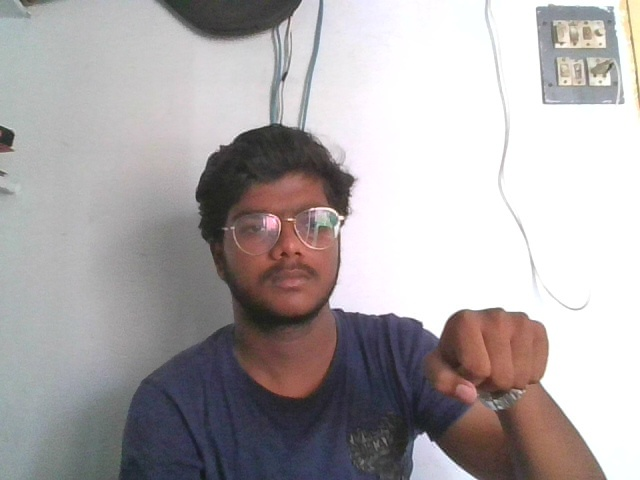Yes: (425, 304, 559, 401)
